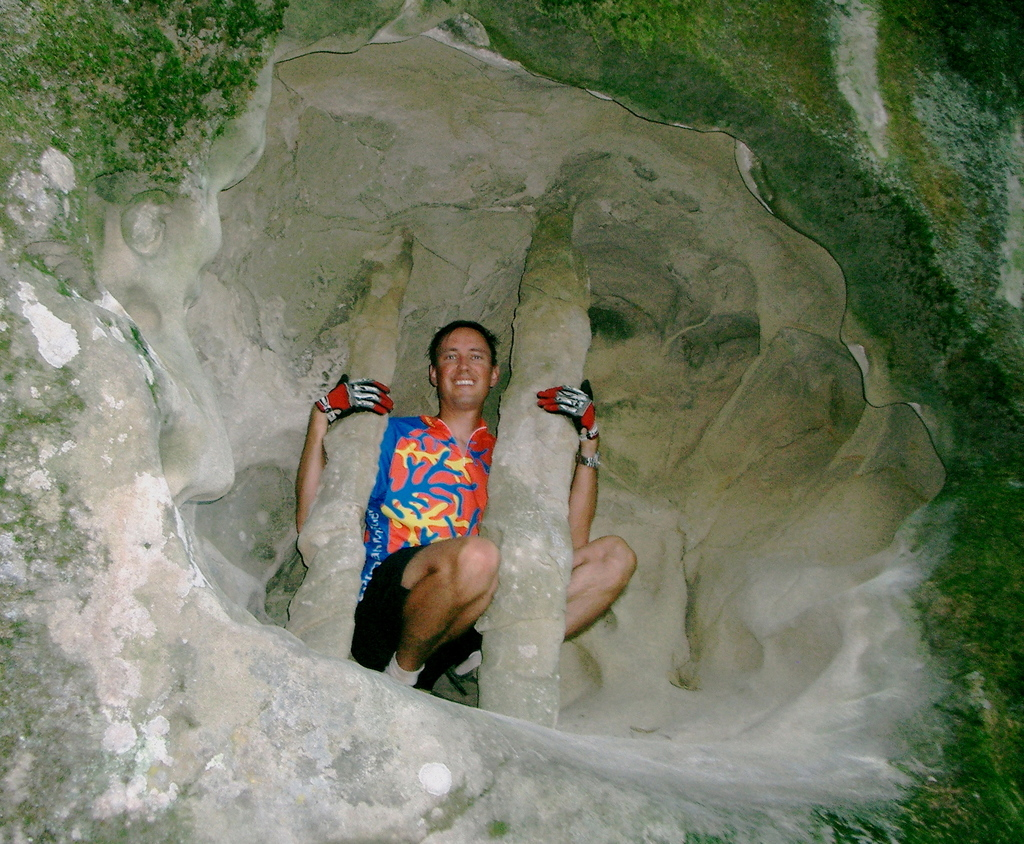Person: (295, 318, 638, 708)
